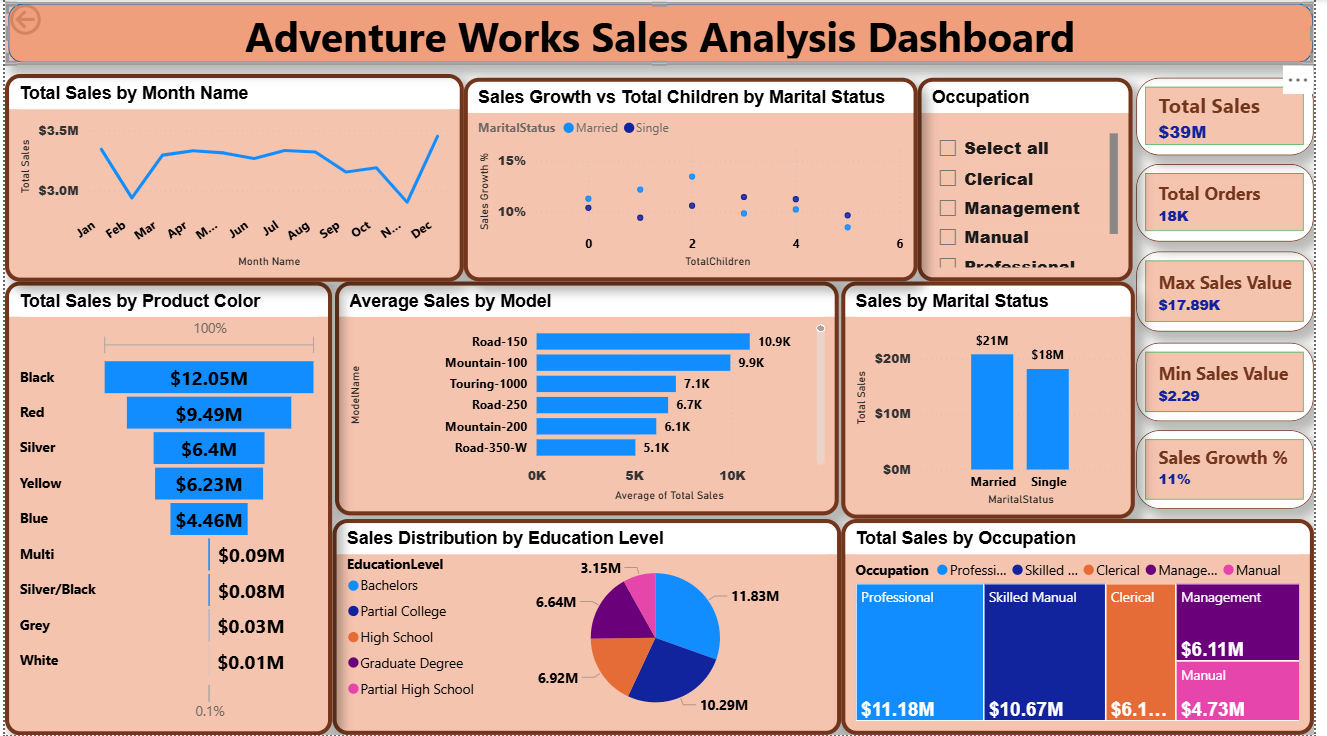

This screenshot's page, from the dashboard's own definition file:
{"tool":"powerbi","page":{"name":"Dashboard","canvas":[1280,720],"ordinal":4},"visuals":[{"type":"cardVisual","fields":{"Data":["Measure Table.Total Sales Maximum"]},"box":[1106.7,247,173.6,78.3],"z":1000},{"type":"cardVisual","fields":{"Data":["Measure Table.Total Sale Min"]},"box":[1106.7,336.3,173.6,77],"z":2000},{"type":"cardVisual","fields":{"Data":["AdventureWorks_Products.Sales Count"]},"box":[1106.7,161.4,173.6,75.8],"z":3000},{"type":"cardVisual","fields":{"Data":["Measure Table.Growth %"]},"box":[1106.7,421.9,173.6,77],"z":4000},{"type":"barChart","title":"Average Sales by Model","fields":{"Y":["Avg(AdventureWorks_Sales.Total Sales)"],"Category":["AdventureWorks_Products.ModelName"]},"box":[322.8,276.4,492.8,228.7],"z":5000},{"type":"pieChart","title":"Sales Distribution by Education Level","fields":{"Category":["Adventure_cust.EducationLevel"],"Y":["Sum(AdventureWorks_Sales.Total Sales)"]},"box":[320.4,508.7,497.7,211.6],"z":6000},{"type":"actionButton","box":[0,0,100,40],"z":7000},{"type":"slicer","title":"Occupation","fields":{"Values":["Adventure_cust.Occupation"]},"box":[892.7,77,210.3,199.3],"z":8000},{"type":"columnChart","title":"Sales by Marital Status","fields":{"Category":["Adventure_cust.MaritalStatus"],"Y":["Measure Table.Total Sales"]},"box":[818.1,276.4,287.4,232.3],"z":9000},{"type":"funnel","title":"Total Sales by Product Color","fields":{"Category":["AdventureWorks_Products.ProductColor"],"Y":["Measure Table.Total Sales"]},"box":[0,276.4,320.4,443.9],"z":10000},{"type":"cardVisual","fields":{"Data":["Measure Table.Total Sales"]},"box":[1106.7,77,173.6,75.8],"z":11000},{"type":"treemap","fields":{"Values":["Measure Table.Total Sales"],"Group":["Adventure_cust.Occupation"]},"box":[818.1,508.7,462.2,211.6],"z":12000},{"type":"lineChart","fields":{"Category":["Calendar.Month Name"],"Y":["Measure Table.Total Sales"]},"box":[0,73.4,448.8,203],"z":13000},{"type":"scatterChart","title":"Sales Growth vs Total  Children by Marital Status","fields":{"X":["Adventure_cust.TotalChildren"],"Y":["Measure Table.Growth %"],"Size":["Measure Table.Total Sales Maximum"],"Series":["Adventure_cust.MaritalStatus"]},"box":[448.8,77,443.9,199.3],"z":14000},{"type":"shape","box":[0,3.7,1280.3,59.9],"z":15000}]}

Visuals, with their boxes in screenshot pixels (x1, y1, x2, y2), scaled from the page's 1280x720 canvas onto the 1327x736 screenshot:
cardVisual - Measure Table.Total Sales Maximum: x1=1147 y1=252 x2=1326 y2=333
cardVisual - Measure Table.Total Sale Min: x1=1147 y1=344 x2=1326 y2=422
cardVisual - AdventureWorks_Products.Sales Count: x1=1147 y1=165 x2=1326 y2=242
cardVisual - Measure Table.Growth %: x1=1147 y1=431 x2=1326 y2=510
"Average Sales by Model" barChart: x1=335 y1=283 x2=846 y2=516
"Sales Distribution by Education Level" pieChart: x1=332 y1=520 x2=848 y2=735
actionButton: x1=0 y1=0 x2=104 y2=41
"Occupation" slicer: x1=925 y1=79 x2=1144 y2=282
"Sales by Marital Status" columnChart: x1=848 y1=283 x2=1146 y2=520
"Total Sales by Product Color" funnel: x1=0 y1=283 x2=332 y2=735
cardVisual - Measure Table.Total Sales: x1=1147 y1=79 x2=1326 y2=156
treemap - Measure Table.Total Sales x Adventure_cust.Occupation: x1=848 y1=520 x2=1326 y2=735
lineChart - Calendar.Month Name x Measure Table.Total Sales: x1=0 y1=75 x2=465 y2=283
"Sales Growth vs Total  Children by Marital Status" scatterChart: x1=465 y1=79 x2=925 y2=282
shape: x1=0 y1=4 x2=1326 y2=65
